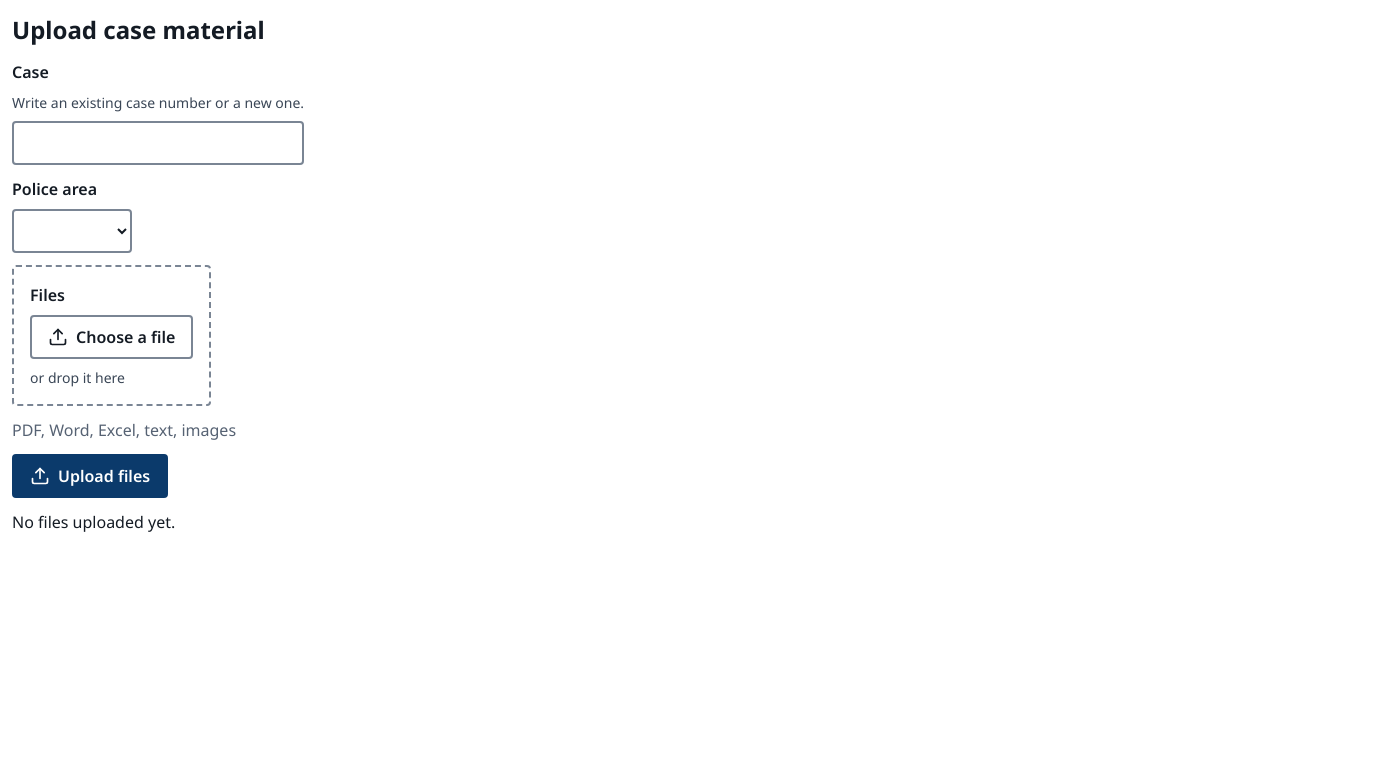
a missing case number, area or file is named and nothing is sent
Click the button "Upload files" at x=90, y=476, box [12, 454, 168, 498]
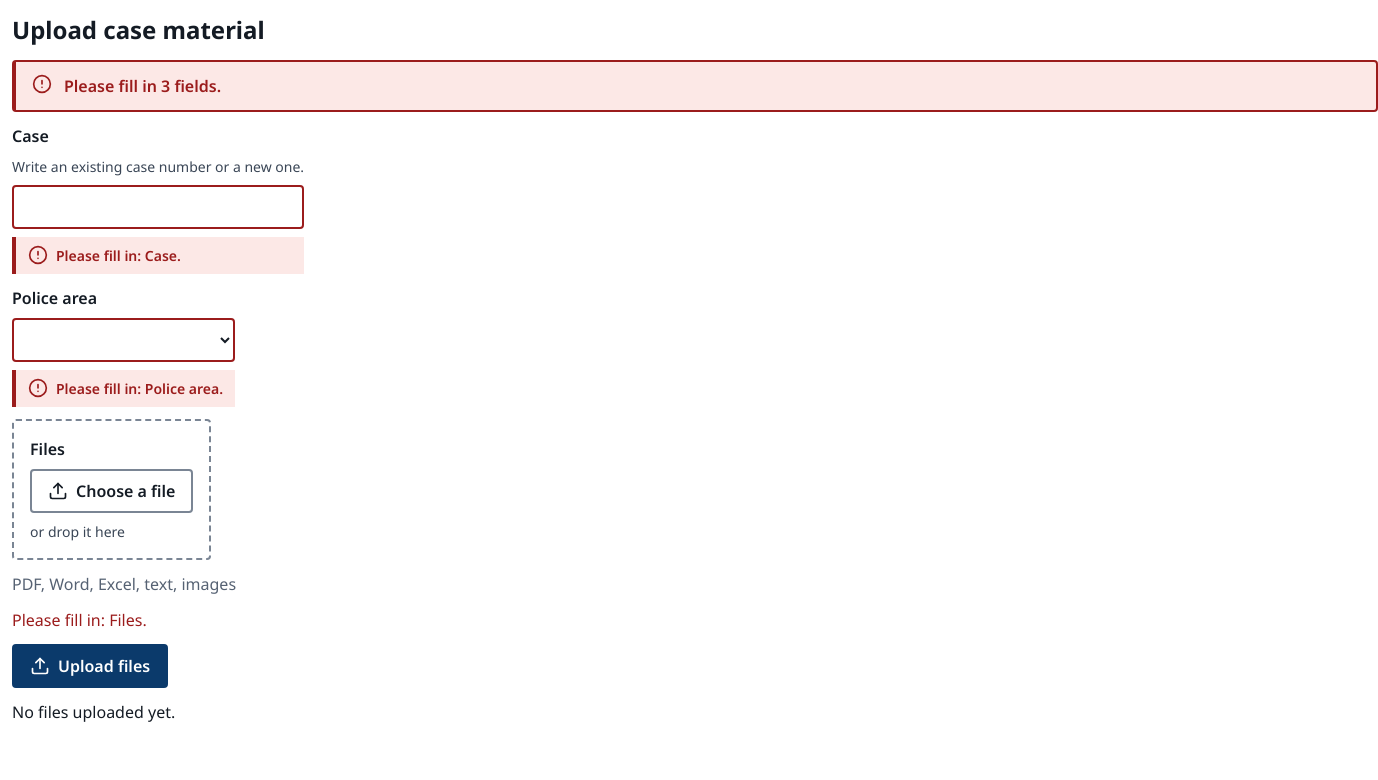
Check: the text "Please fill in: Case." is shown, box [56, 245, 181, 266]
Check: the text "Please fill in: Police area." is shown, box [56, 378, 223, 399]
Check: the text "Please fill in: Files." is shown, box [12, 608, 147, 632]
